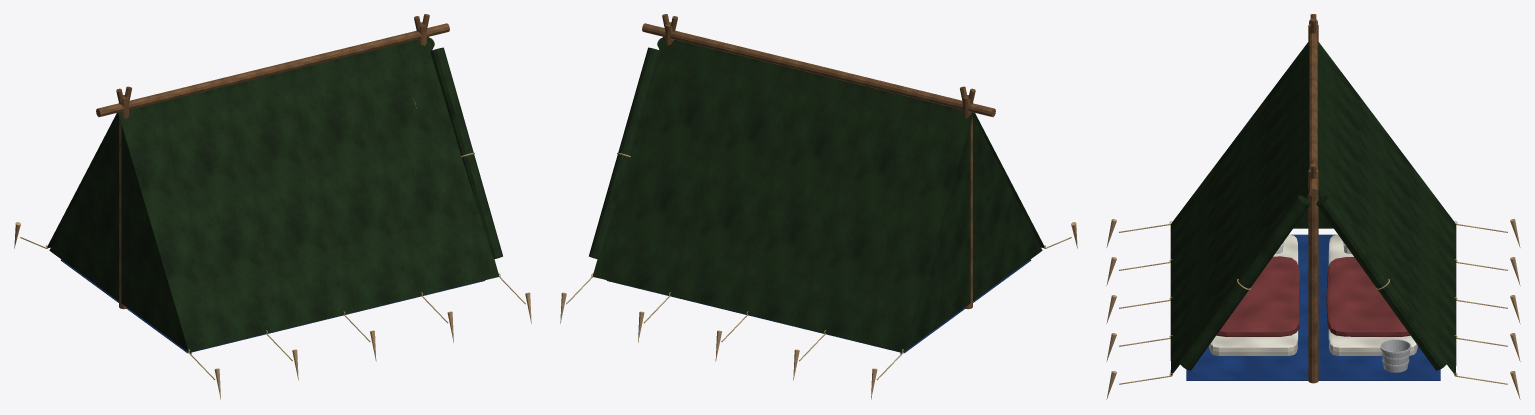
The model's file is barraca_lona.glb.
3 renders of one model, left to right at view 1: azimuth 30°, elevation 25°; view 2: azimuth 150°, elevation 25°; view 3: azimuth 270°, elevation 25°, orthographic.
Parts seen in each view (by area): view 1: barraca_lona_lona_verde, barraca_lona_madeira_lenha, barraca_lona_madeira_crua, barraca_lona_lona_azul; view 2: barraca_lona_lona_verde, barraca_lona_madeira_lenha, barraca_lona_madeira_crua, barraca_lona_lona_azul; view 3: barraca_lona_lona_verde, barraca_lona_cobertor, barraca_lona_lona_azul, barraca_lona_colchao, barraca_lona_madeira_lenha, barraca_lona_corda, barraca_lona_madeira_crua, barraca_lona_balde_zinco.
Part boxes in pixels (<box>): barraca_lona_lona_verde: <box>47,37,502,354</box>; barraca_lona_madeira_lenha: <box>96,14,449,309</box>; barraca_lona_madeira_crua: <box>14,222,531,399</box>; barraca_lona_lona_azul: <box>60,259,485,353</box>; barraca_lona_lona_verde: <box>589,37,1044,354</box>; barraca_lona_madeira_lenha: <box>642,14,995,309</box>; barraca_lona_madeira_crua: <box>560,222,1077,399</box>; barraca_lona_lona_azul: <box>606,259,1031,353</box>; barraca_lona_lona_verde: <box>1170,42,1456,375</box>; barraca_lona_cobertor: <box>1216,256,1410,336</box>; barraca_lona_lona_azul: <box>1186,234,1440,380</box>; barraca_lona_colchao: <box>1209,234,1417,355</box>; barraca_lona_madeira_lenha: <box>1308,14,1318,383</box>; barraca_lona_corda: <box>1119,224,1507,384</box>; barraca_lona_madeira_crua: <box>1106,219,1520,399</box>; barraca_lona_balde_zinco: <box>1380,339,1411,372</box>.
Size of the model in its own units: 2.7 by 1.74 by 2.77.
Materials: 10 (8 with a texture image).
